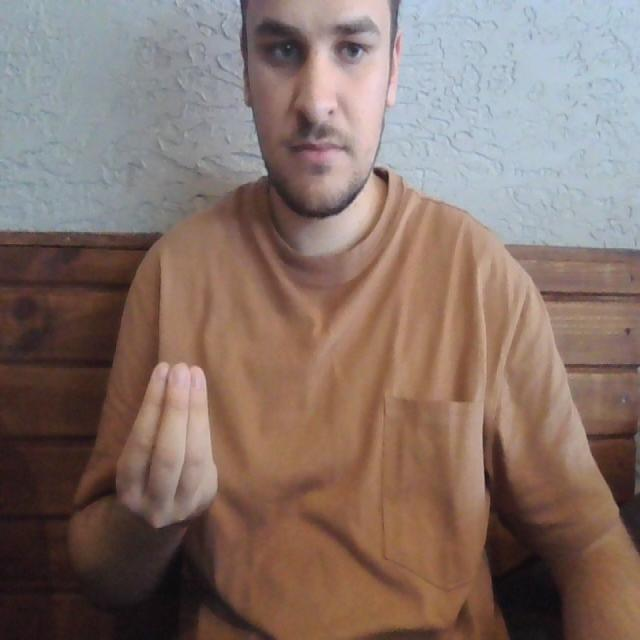iyi: (106, 344, 220, 536)
